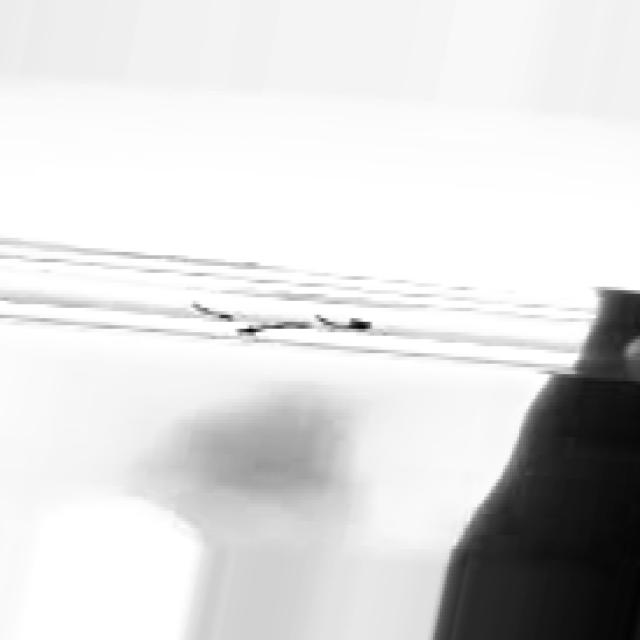larvas: (235, 322, 311, 338), (316, 315, 372, 330), (192, 304, 233, 324)
